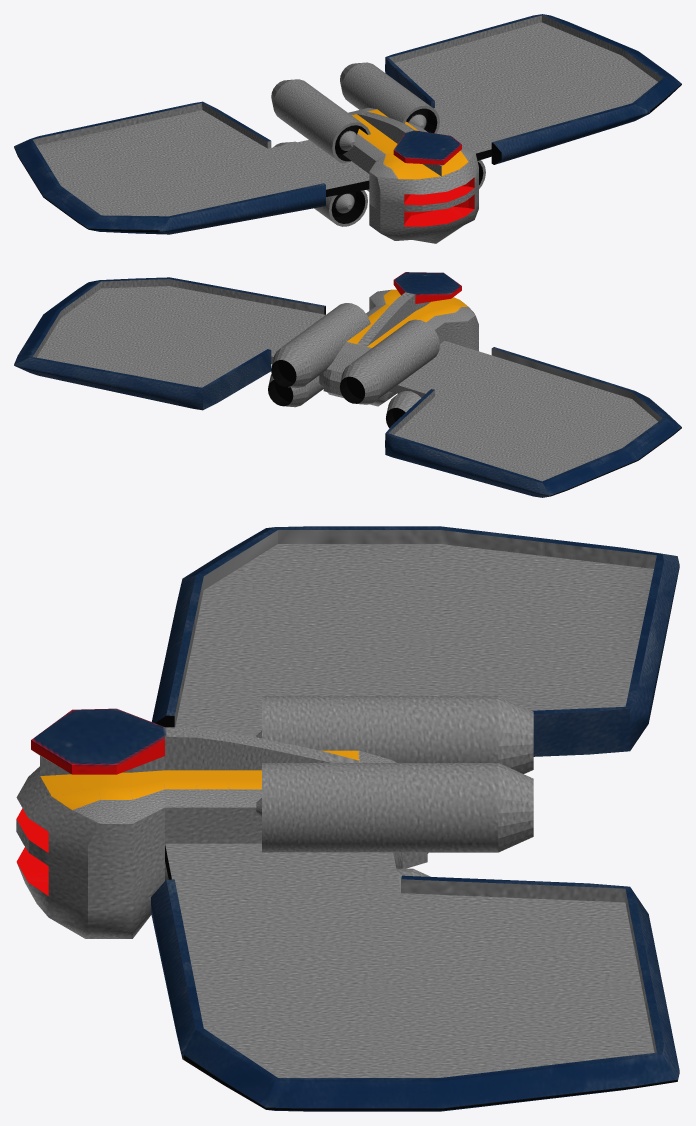
The model's file is miniboss.fbx.
3 renders of one model, top to bottom at view 1: azimuth 30°, elevation 25°; view 2: azimuth 150°, elevation 25°; view 3: azimuth 270°, elevation 25°, orthographic. The views are drawn at different scales.
Parts seen in each view (by area): view 1: polySurface2, polySurface1, pCylinder4, pCylinder5, pCylinder7; view 2: polySurface2, pCylinder4, pCylinder5, polySurface1, pCylinder6, pCylinder7; view 3: polySurface2, polySurface1, pCylinder5, pCylinder4.
Part boxes in pixels (left/top/right/bottom): polySurface2: left=14, top=14, right=681, bottom=234; polySurface1: left=369, top=130, right=478, bottom=243; pCylinder4: left=271, top=79, right=370, bottom=163; pCylinder5: left=340, top=62, right=439, bottom=133; pCylinder7: left=273, top=141, right=367, bottom=226; polySurface2: left=14, top=277, right=681, bottom=497; pCylinder4: left=340, top=319, right=439, bottom=404; pCylinder5: left=271, top=303, right=370, bottom=387; polySurface1: left=369, top=272, right=478, bottom=351; pCylinder6: left=268, top=374, right=323, bottom=407; pCylinder7: left=386, top=391, right=420, bottom=427; polySurface2: left=151, top=526, right=679, bottom=1111; polySurface1: left=16, top=708, right=164, bottom=938; pCylinder5: left=256, top=763, right=533, bottom=852; pCylinder4: left=256, top=696, right=533, bottom=773.
Bounding box in the file's own units: 184 × 27.64 × 88.91.
